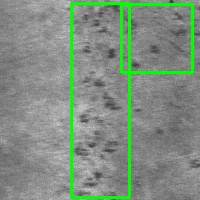rolled-in_scale: (71, 3, 129, 197), (121, 4, 192, 72)
